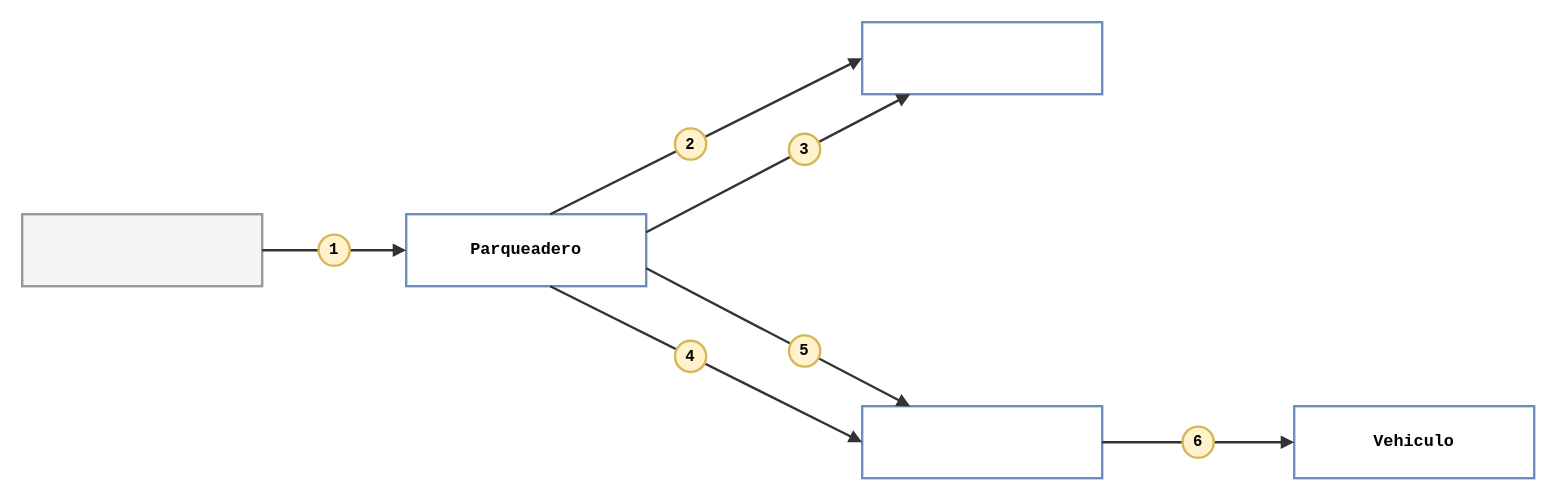
Image size: 1555x499. Some labels were removed from this diagram. The shapes that lost their labels are listed below. From the top down, each one's box as (x1, y1, x2, y2) in pixels, then its label:
(860, 20, 1103, 95): Puesto
(20, 212, 263, 287): programa principal
(860, 404, 1103, 479): Recibo
